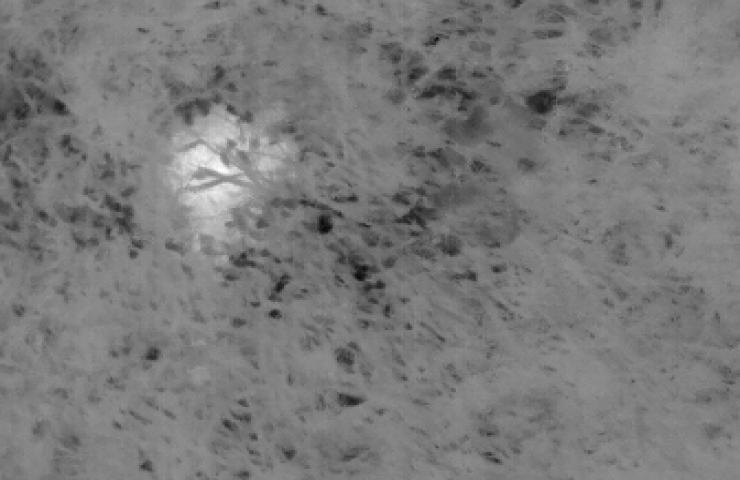landmines: (161, 102, 307, 263)
